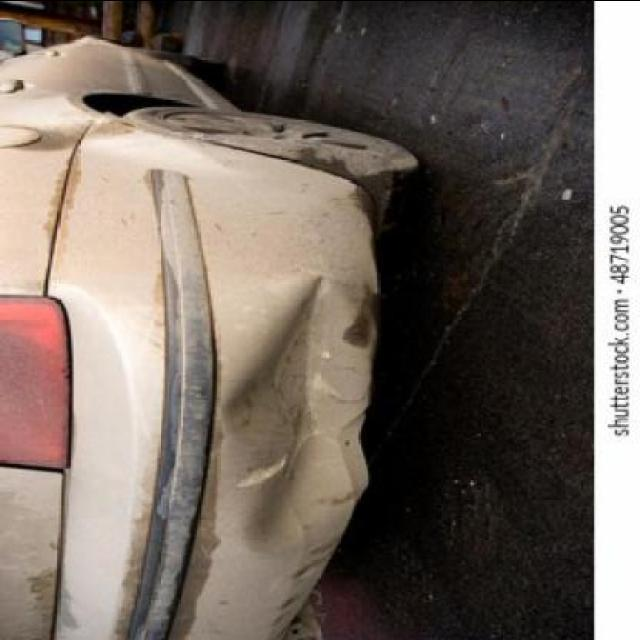rear-bumper-dent: (166, 142, 409, 640)
